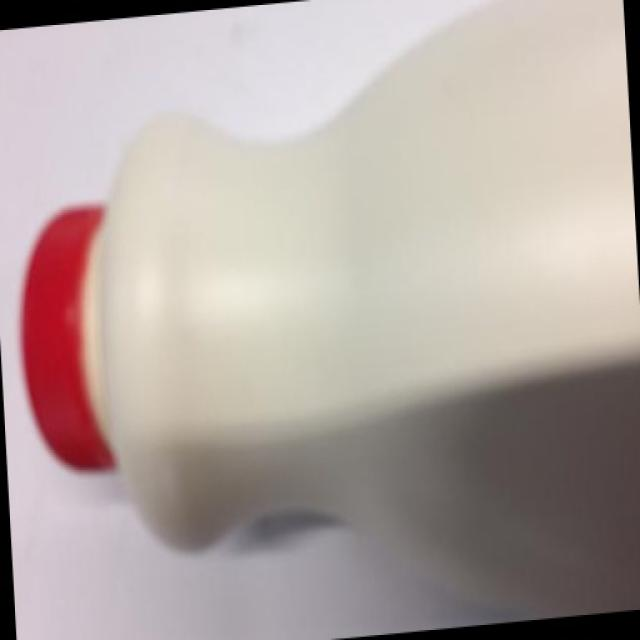plastico: (23, 18, 638, 639)
